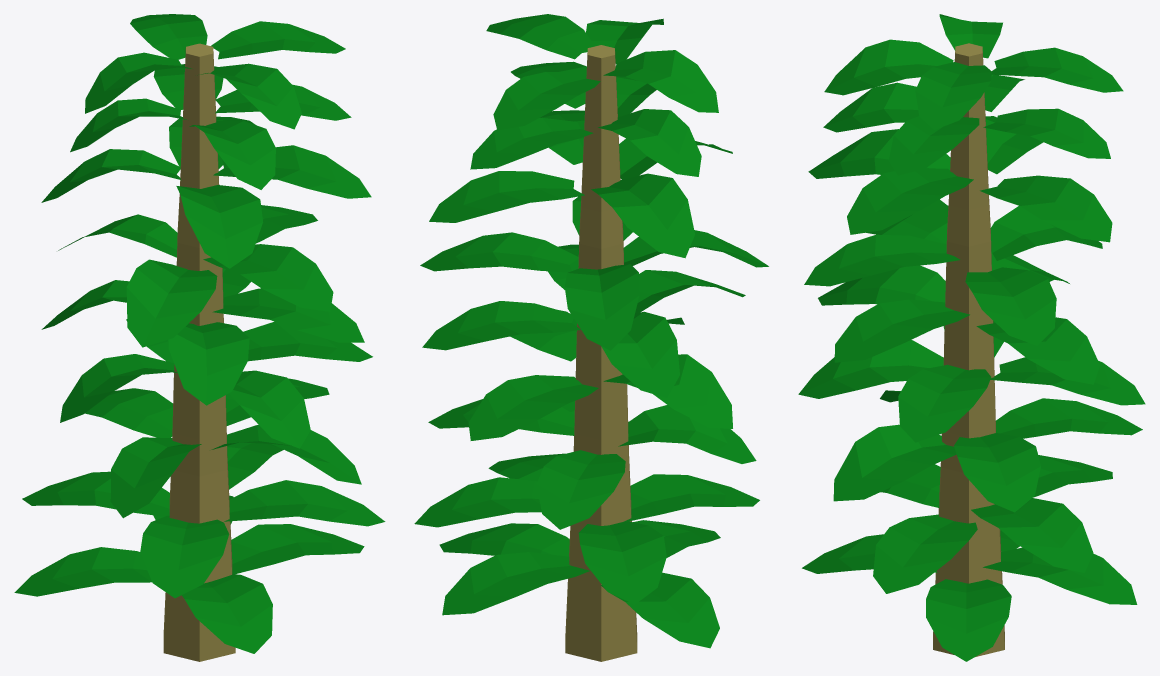
The model's file is tree4.glb.
3 renders of one model, left to right at view 1: azimuth 30°, elevation 25°; view 2: azimuth 150°, elevation 25°; view 3: azimuth 270°, elevation 25°, orthographic.
Visible parts, largest first — view 1: Tree4; view 2: Tree4; view 3: Tree4.
Part boxes in pixels (box(x1,y1,x2,y2)): Tree4: box(14, 14, 385, 661); Tree4: box(414, 14, 768, 661); Tree4: box(798, 14, 1145, 661).
Size of the model in its own units: 3.01 by 5.55 by 2.93.
